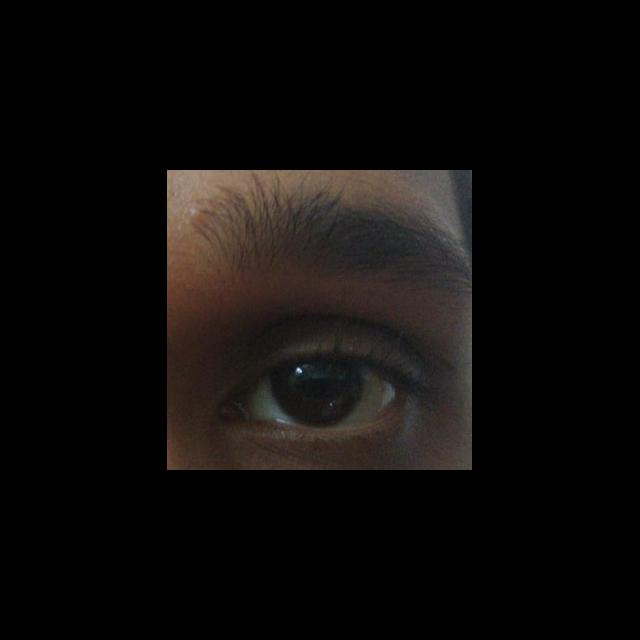eye: (239, 357, 398, 431)
iris: (270, 363, 365, 427)
